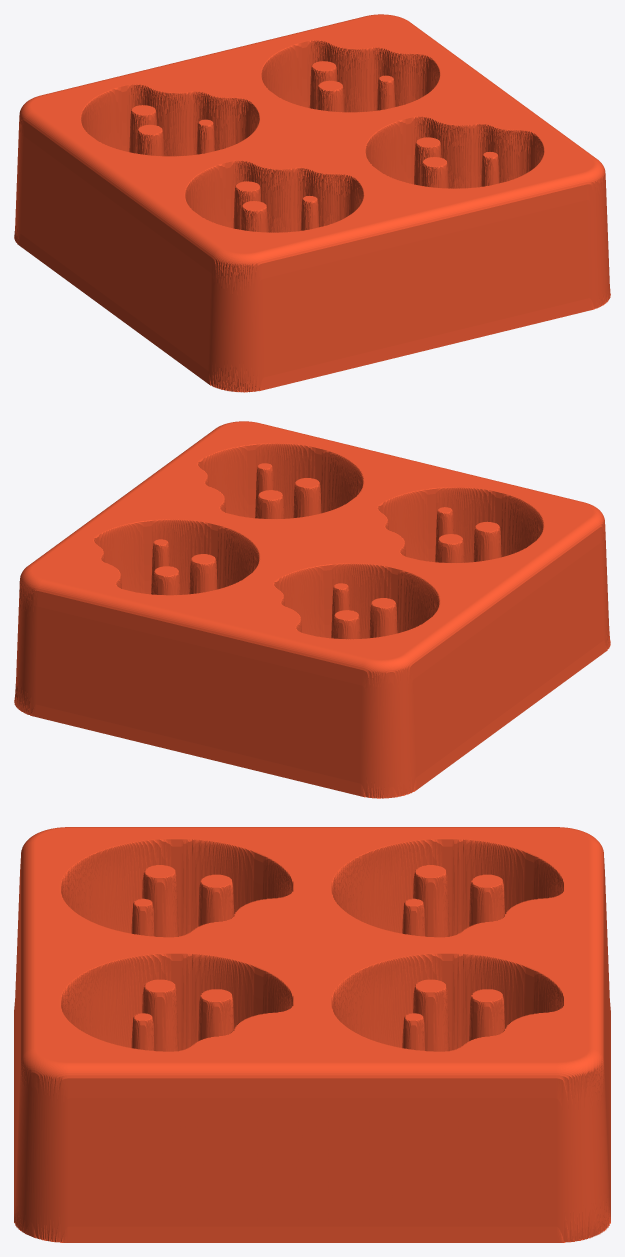
The model's file is mold.glb.
The picture shows the model from 3 angles, top to bottom: view 1: azimuth 30°, elevation 25°; view 2: azimuth 150°, elevation 25°; view 3: azimuth 270°, elevation 25°; orthographic projection. The views are drawn at different scales.
Parts seen in each view (by area): view 1: geometry_0; view 2: geometry_0; view 3: geometry_0.
Boxes of the visible parts, x1,y1,x2,y2 form: geometry_0: (14,14,610,392); geometry_0: (14,421,610,798); geometry_0: (14,827,610,1242).
Size of the model in its own units: 0.0992 by 0.0314 by 0.0992.
